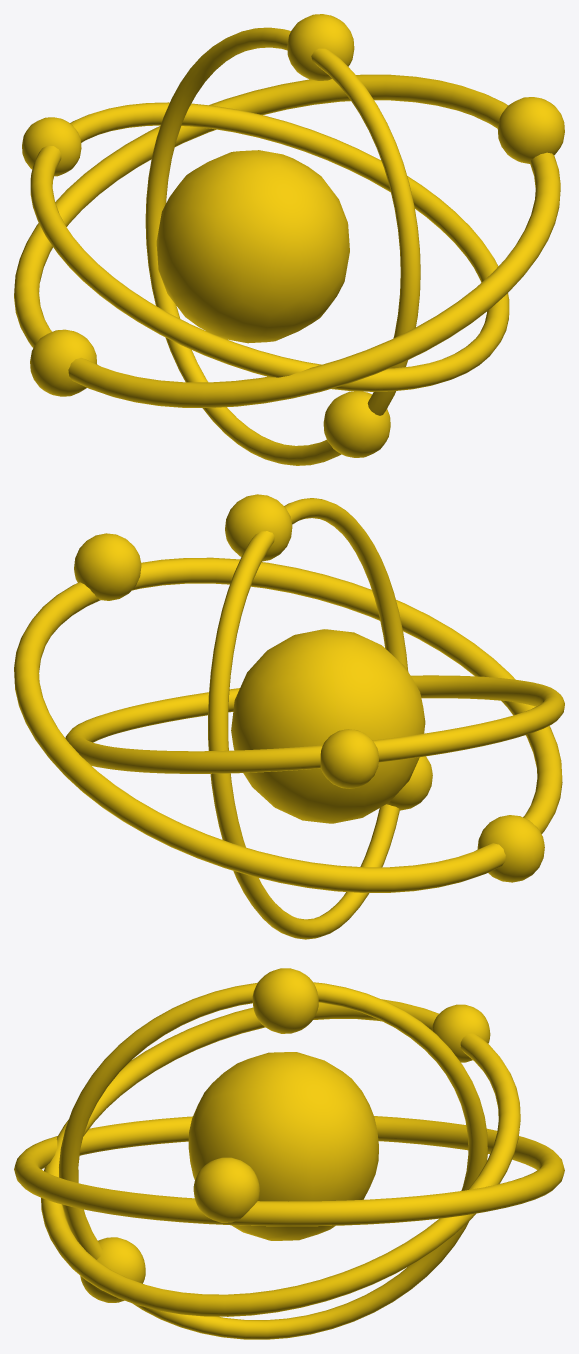
File: Atomic.fbx
The picture shows the model from 3 angles, top to bottom: view 1: azimuth 30°, elevation 25°; view 2: azimuth 150°, elevation 25°; view 3: azimuth 270°, elevation 25°; orthographic projection. The views are drawn at different scales.
Parts seen in each view (by area): view 1: Cube.003; view 2: Cube.003; view 3: Cube.003.
Boxes of the visible parts, box(x1,y1,x2,y2) form: Cube.003: box(14, 14, 564, 465); Cube.003: box(14, 494, 564, 939); Cube.003: box(14, 968, 564, 1339).
Size of the model in its own units: 219 by 175 by 216.
